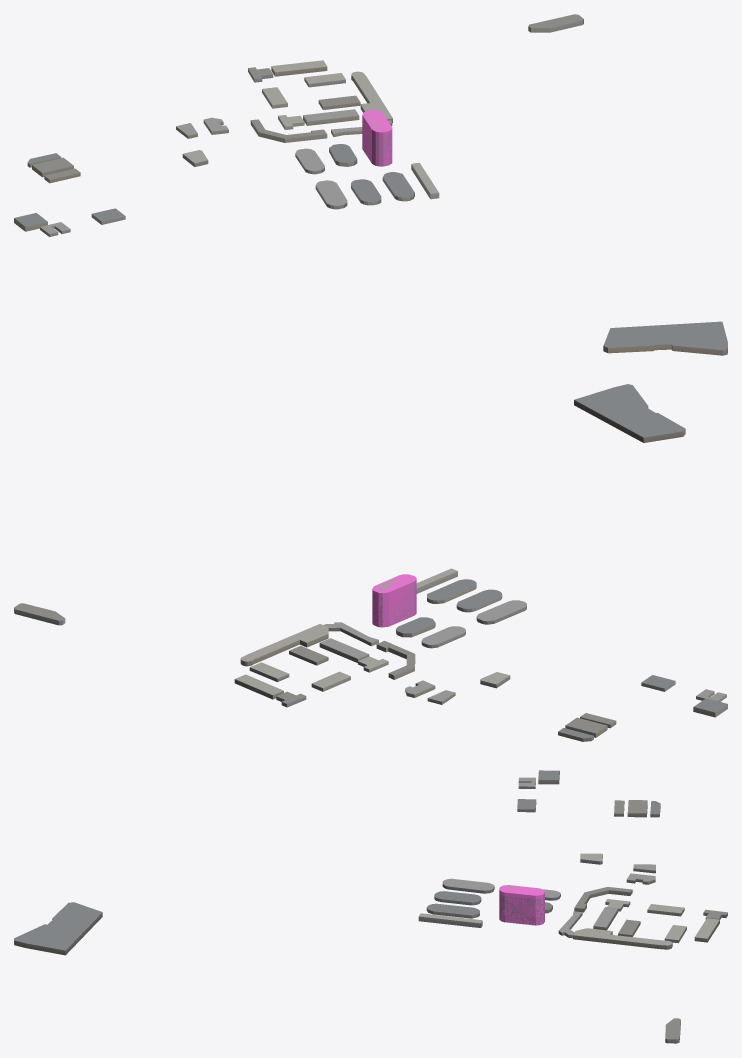
The model's file is bld_17_7.fbx.
3 renders of one model, top to bottom at view 1: azimuth 30°, elevation 25°; view 2: azimuth 150°, elevation 25°; view 3: azimuth 270°, elevation 25°, orthographic. The views are drawn at different scales.
Parts seen in each view (by area): view 1: bld_17_7_LOD0, bld_17_7_COL; view 2: bld_17_7_LOD0, bld_17_7_COL; view 3: bld_17_7_LOD0, bld_17_7_COL.
Boxes of the visible parts, <box> form: bld_17_7_LOD0: <box>14,14,727,355</box>; bld_17_7_COL: <box>362,110,392,166</box>; bld_17_7_LOD0: <box>14,384,727,741</box>; bld_17_7_COL: <box>372,574,416,627</box>; bld_17_7_LOD0: <box>14,770,727,1043</box>; bld_17_7_COL: <box>499,885,544,925</box>.
Size of what is drawn, in the model's own units: 1638 by 84.61 by 1839.
